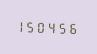five: (27, 19, 36, 33), (58, 20, 67, 34)
four: (48, 19, 57, 34)
one: (17, 18, 26, 33)
six: (68, 20, 77, 34)
zero: (38, 19, 47, 33)
